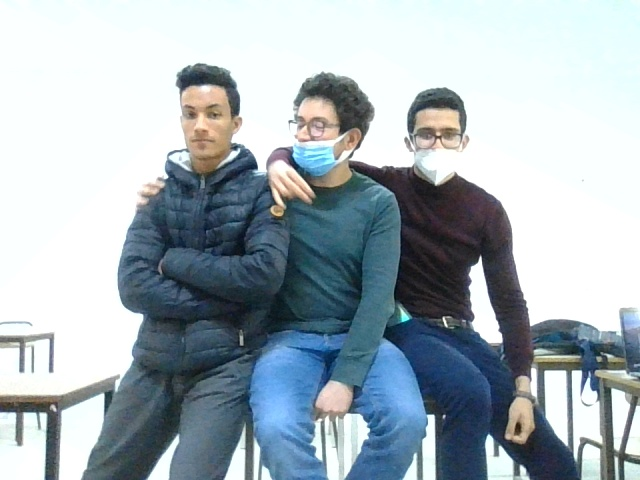mask_weared_incorrect: (286, 113, 341, 172), (414, 124, 465, 175)
without_mask: (177, 99, 233, 154)
